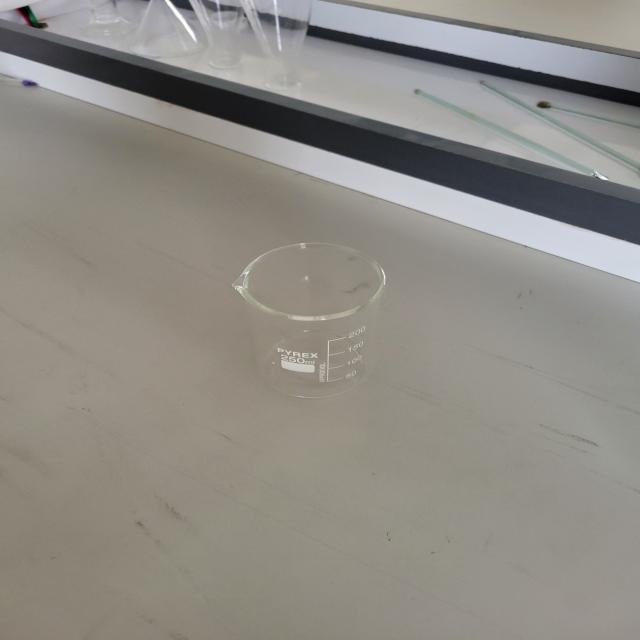Beaker: (232, 237, 401, 407)
